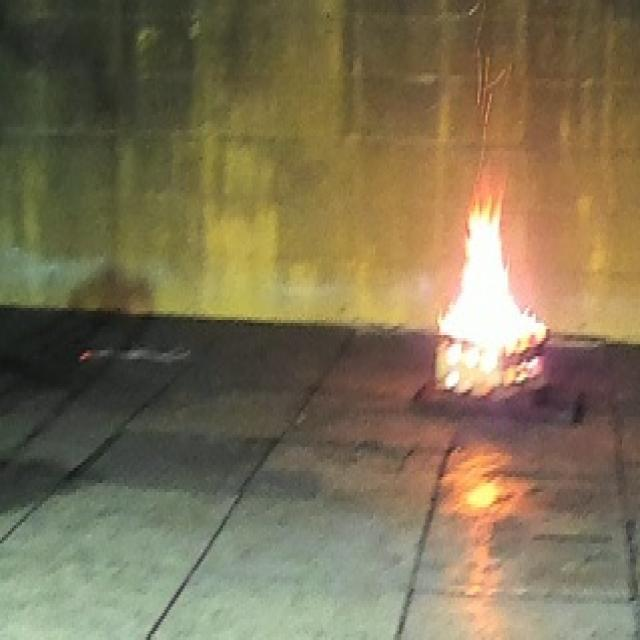Fire: (436, 156, 548, 396)
